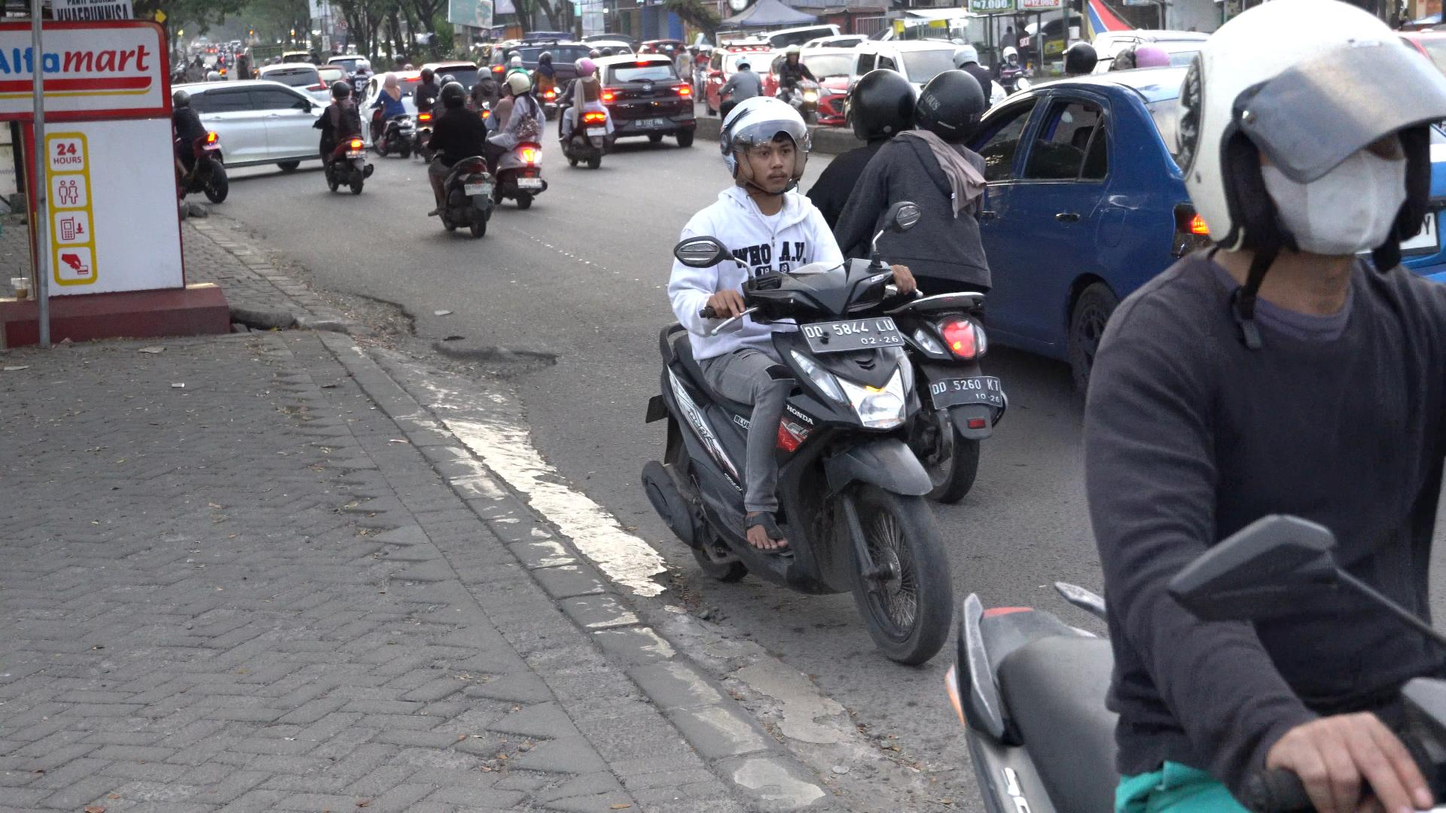number-plate: (800, 314, 907, 351)
